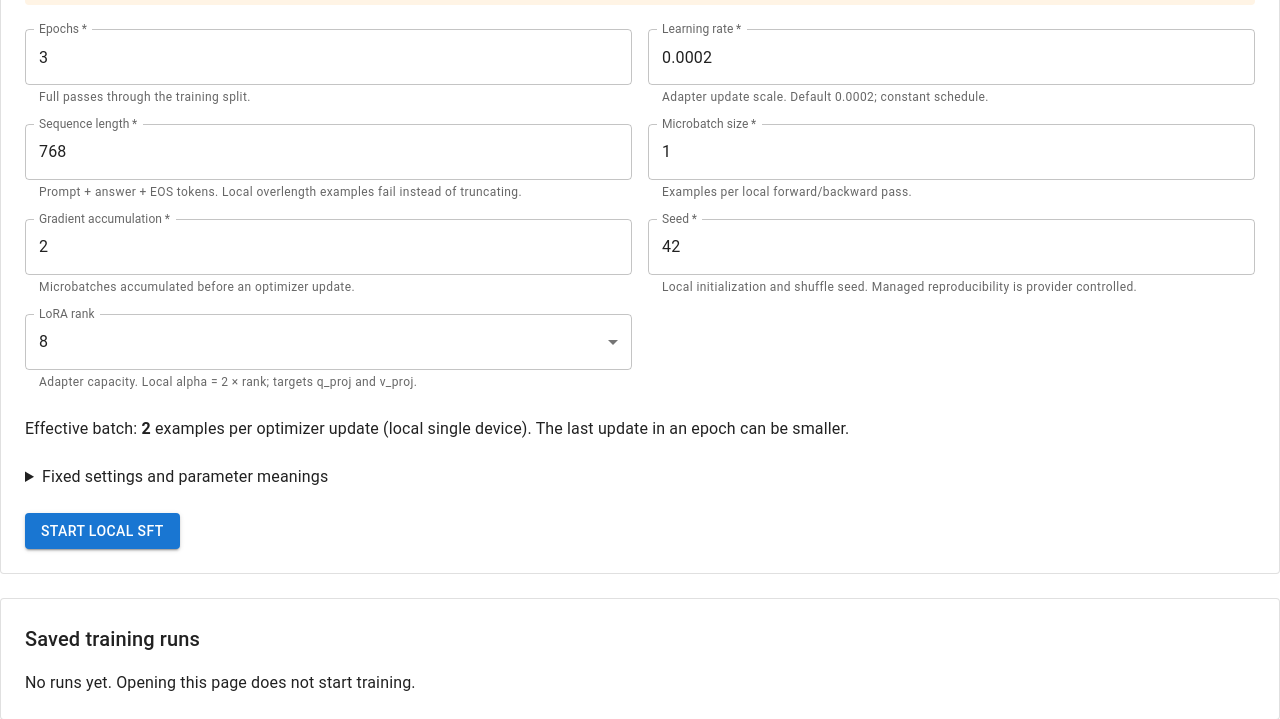
Test: displays API errors rather than a success state
(page scrolled)
Click the button "Start local SFT". click: [102, 531]
box: [25,513,180,549]
(page scrolled)
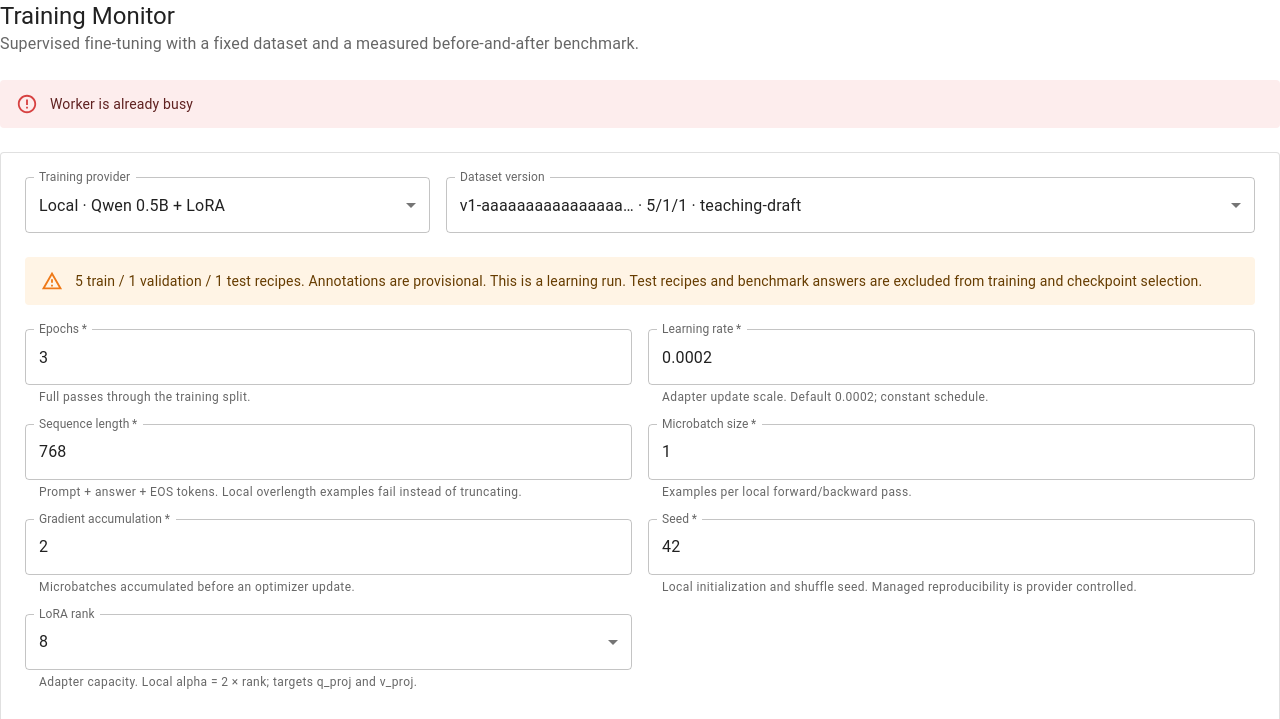
Result: the text "Worker is already busy" is shown at [50,96,193,112]
